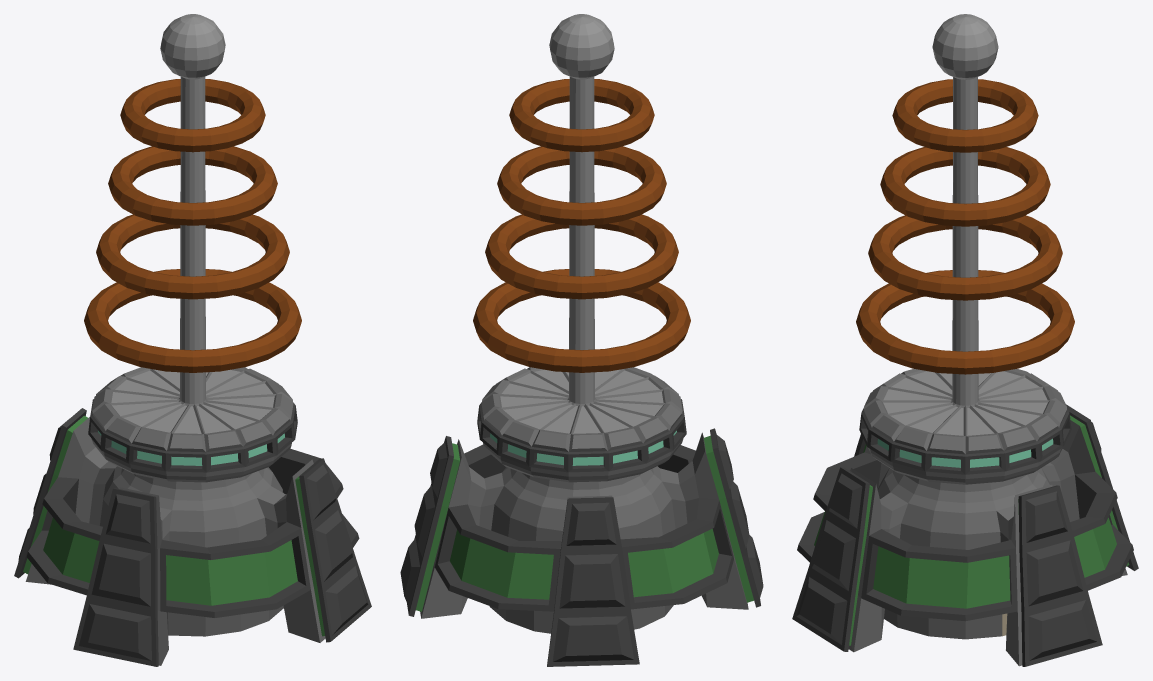
The model's file is PowerSource V1.0.obj.
3 renders of one model, left to right at view 1: azimuth 30°, elevation 25°; view 2: azimuth 150°, elevation 25°; view 3: azimuth 270°, elevation 25°, orthographic.
Parts seen in each view (by area): view 1: Power_Source_Cylinder.001; view 2: Power_Source_Cylinder.001; view 3: Power_Source_Cylinder.001.
Boxes of the visible parts, x1,y1,x2,y2 form: Power_Source_Cylinder.001: [14, 14, 371, 666]; Power_Source_Cylinder.001: [400, 14, 763, 666]; Power_Source_Cylinder.001: [792, 14, 1138, 666].
Bounding box in the file's own units: 2.85 × 5.27 × 2.85.
Materials: 1 (1 with a texture image).
